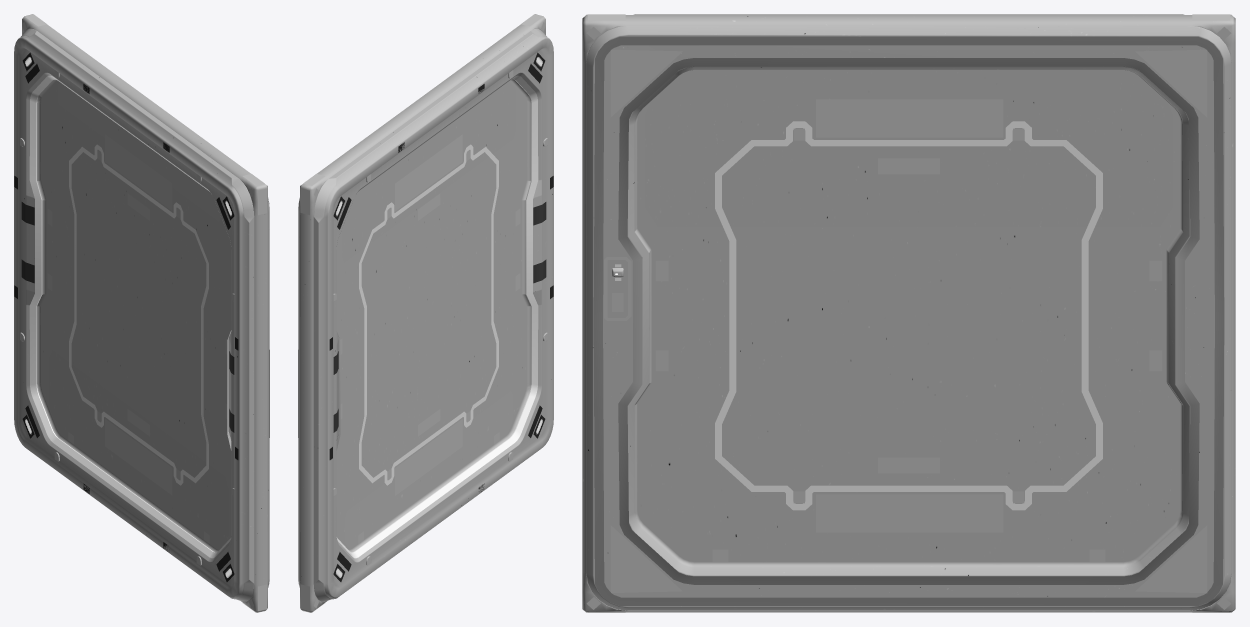
File: SM_Panel_4_Merged.fbx
The picture shows the model from 3 angles, left to right: view 1: azimuth 30°, elevation 25°; view 2: azimuth 150°, elevation 25°; view 3: azimuth 270°, elevation 25°; orthographic projection. The views are drawn at different scales.
Visible parts, largest first — view 1: SM_Panel_4_Merged_LOD0; view 2: SM_Panel_4_Merged_LOD0; view 3: SM_Panel_4_Merged_LOD0.
Boxes of the visible parts, x1,y1,x2,y2 form: SM_Panel_4_Merged_LOD0: [14, 14, 269, 612]; SM_Panel_4_Merged_LOD0: [298, 14, 553, 612]; SM_Panel_4_Merged_LOD0: [582, 14, 1235, 612].
Size of the model in its own units: 31.75 by 405 by 405.
